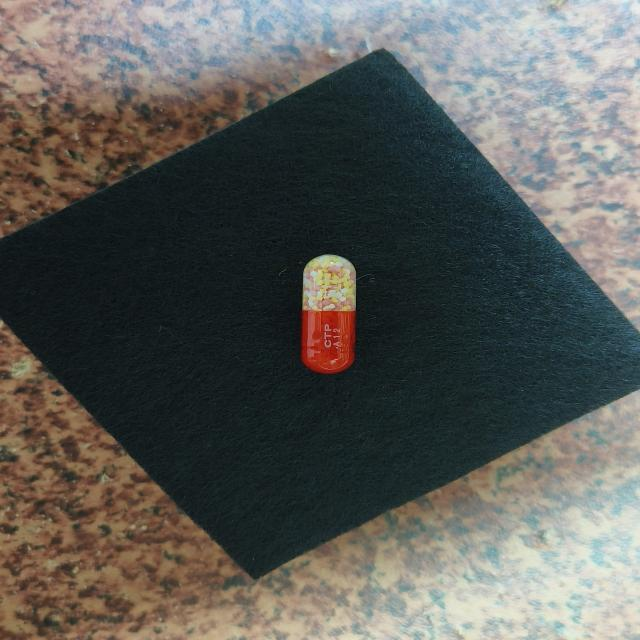Intact Capsule: (301, 254, 356, 374)
